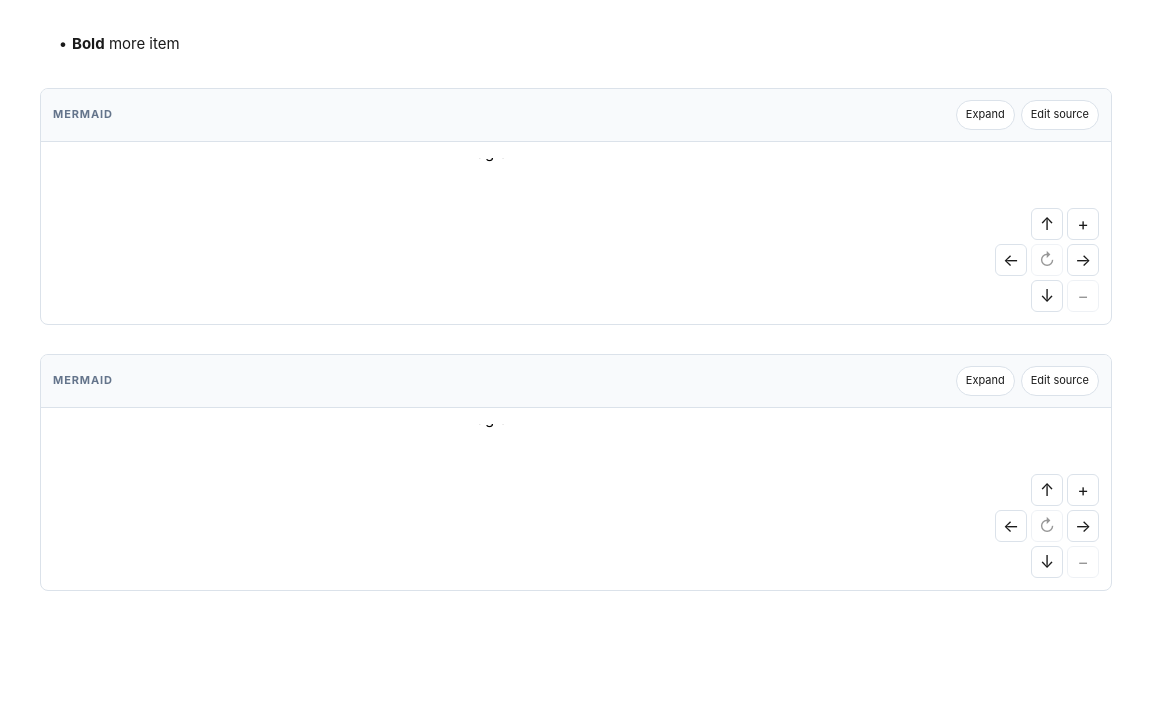
Test: Mermaid rich blocks › opens the selected one of two identical diagrams after their offsets shift
Expected: the number of elements with class "me-mermaid-block--ready" is 2, [40,88,1112,325]; [40,354,1112,591]
Click the 2nd button with class "me-mermaid-edit": x=1060, y=381 [1021,366,1099,396]
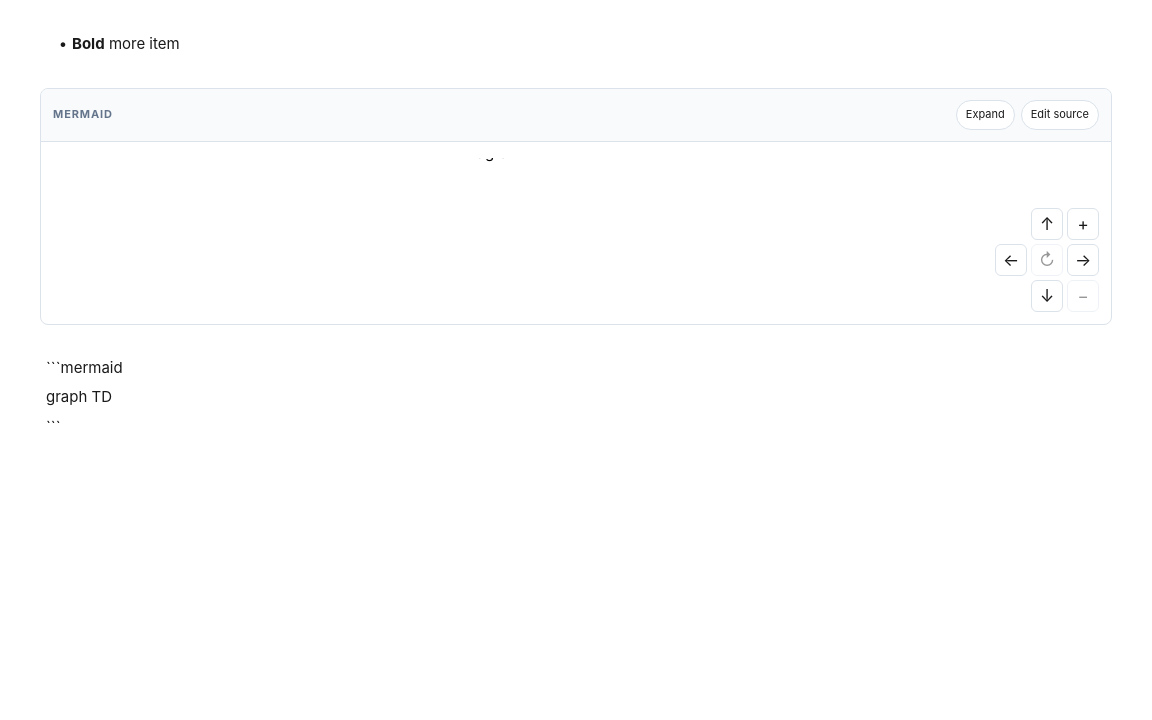
Result: the number of elements with class "me-mermaid-block" is 1 at [40,88,1112,325]
